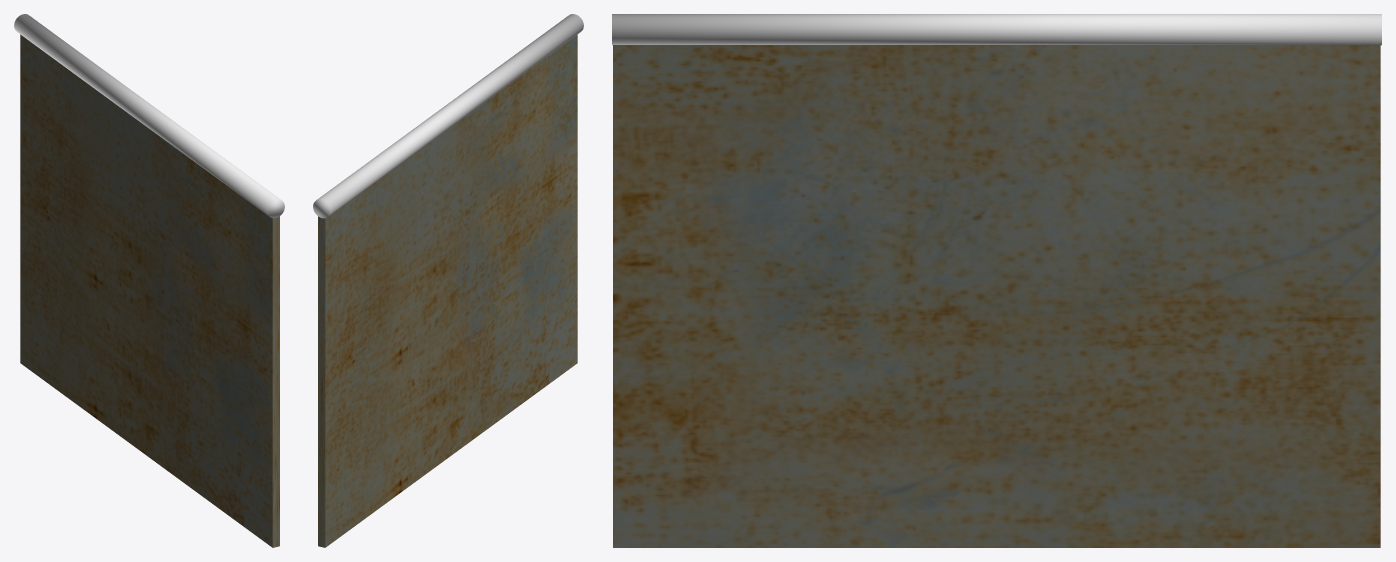
The model's file is door.fbx.
3 views of the same model, side by side, from view 1: azimuth 30°, elevation 25°; view 2: azimuth 150°, elevation 25°; view 3: azimuth 270°, elevation 25° (orthographic). The views are drawn at different scales.
Parts seen in each view (by area): view 1: Cube.007, door; view 2: Cube.007, door; view 3: Cube.007, door.
Boxes of the visible parts, left/top/right/bottom form: Cube.007: left=20, top=34, right=279, bottom=547; door: left=14, top=14, right=284, bottom=218; Cube.007: left=318, top=34, right=577, bottom=547; door: left=313, top=14, right=583, bottom=218; Cube.007: left=613, top=45, right=1380, bottom=547; door: left=612, top=14, right=1381, bottom=45.
Size of the model in its own units: 35.11 by 656 by 865.
